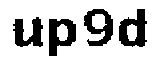9: (81, 6, 115, 50)
d: (116, 6, 148, 51)
p: (46, 15, 79, 60)
u: (6, 14, 44, 52)
